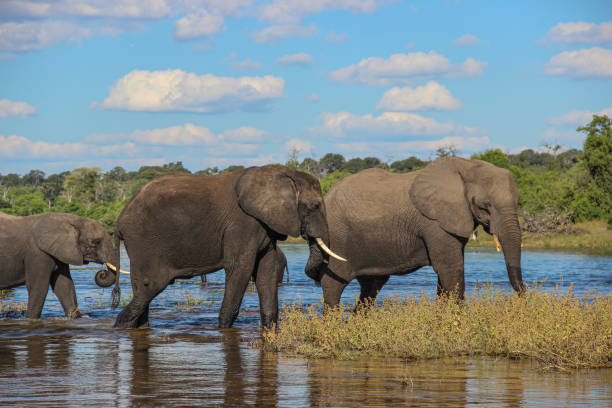africanelephant: (259, 164, 350, 274), (449, 155, 525, 265)
